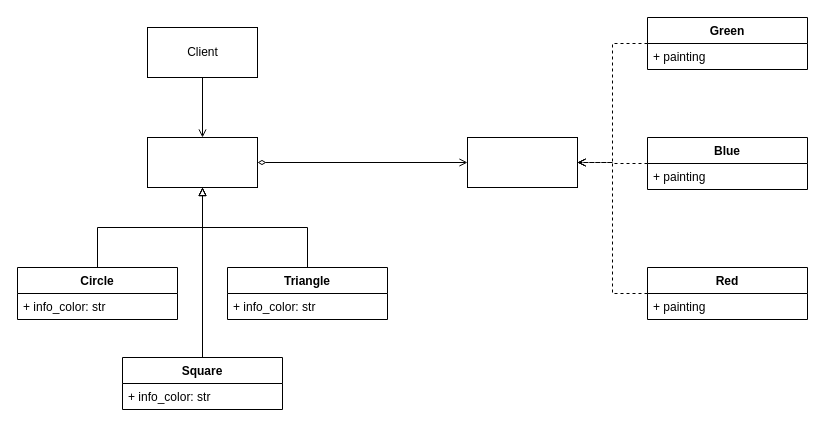
The diagram is 825 pixels wide and 430 high, and some of its shapes have lost their labels. Here are the shapes that lost their labels. From the top down, the centre of each, then its label:
At point 202,162: "Shape".
At point 522,162: "«interface» Color".
